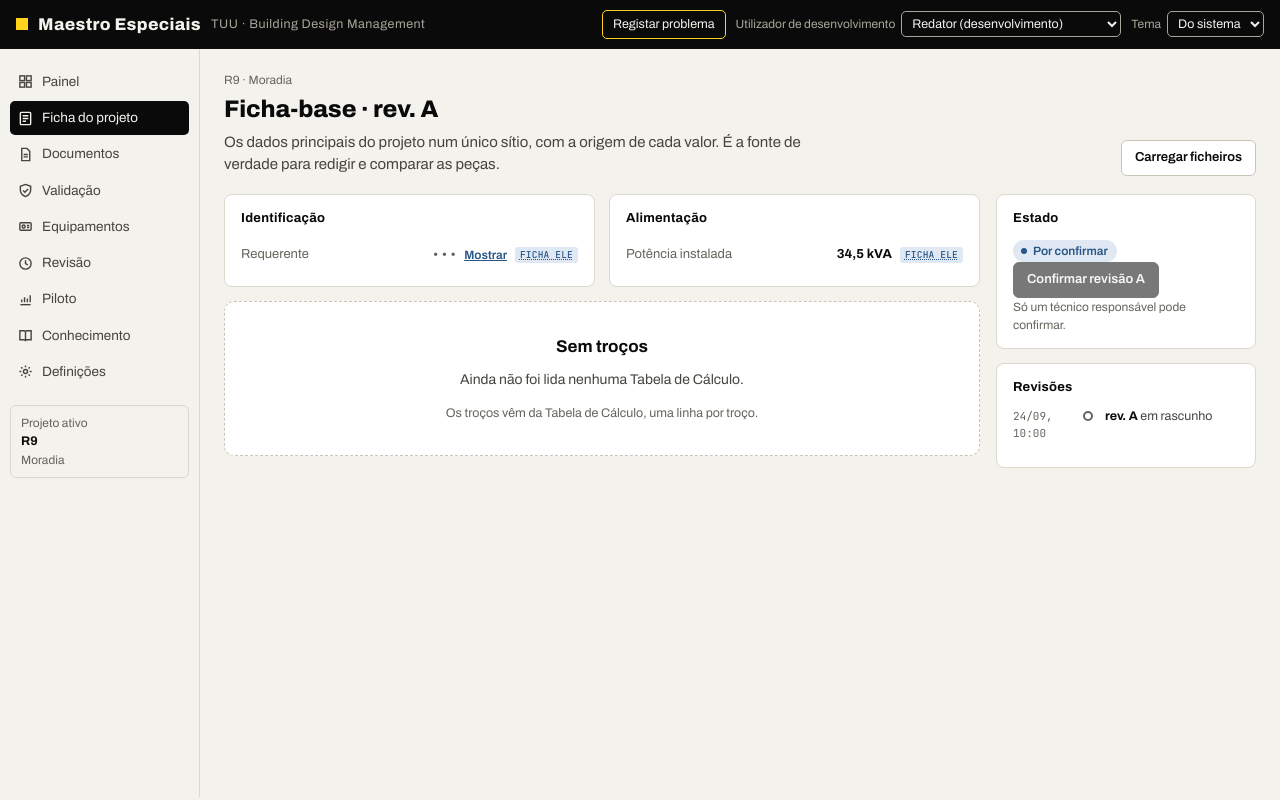
ficha do projeto › shows each value with its origin and masks personal data until asked
Check: the heading "Ficha-base · rev. A" is shown, box [224, 96, 438, 122]
Check: the text "34,5 kVA" is shown, box [837, 247, 892, 261]
Click the button "Mostrar" at (486, 255), box [464, 246, 507, 264]
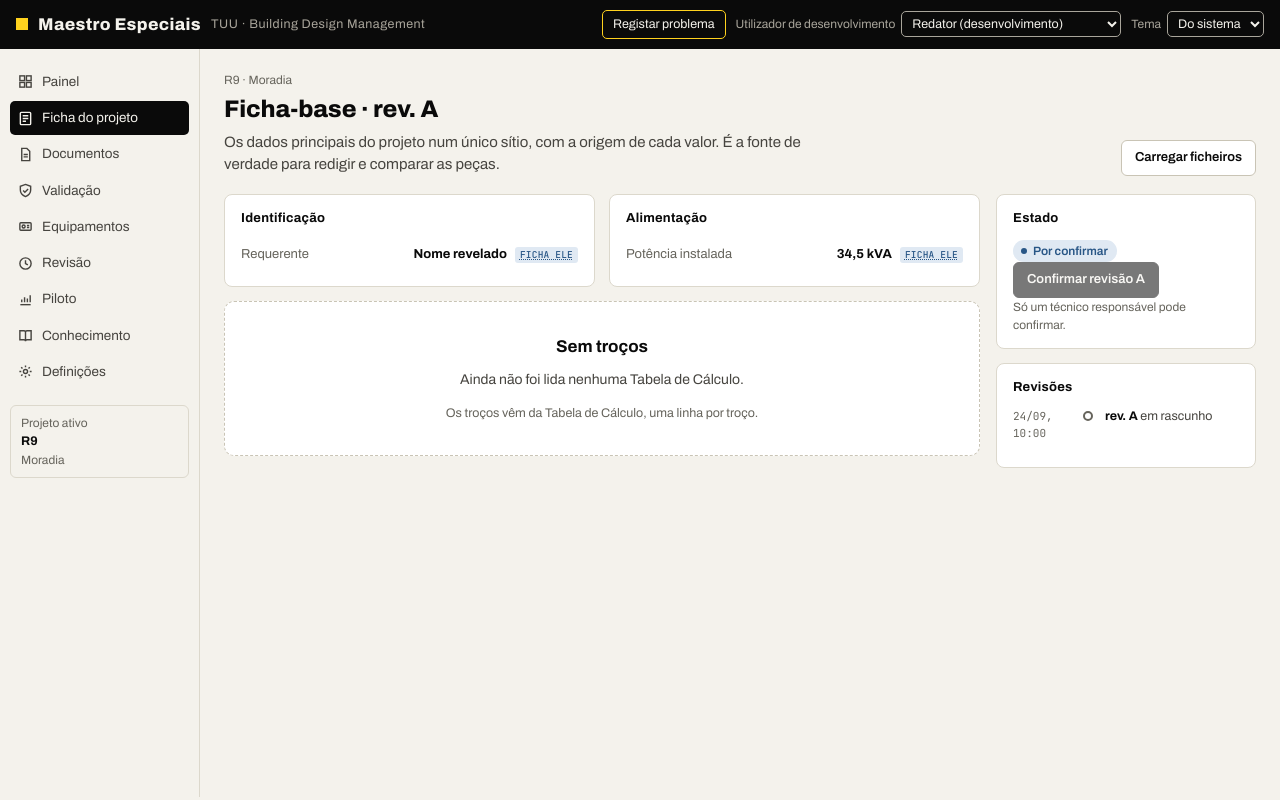
Check: the text "Nome revelado" is shown, box [414, 247, 507, 261]
